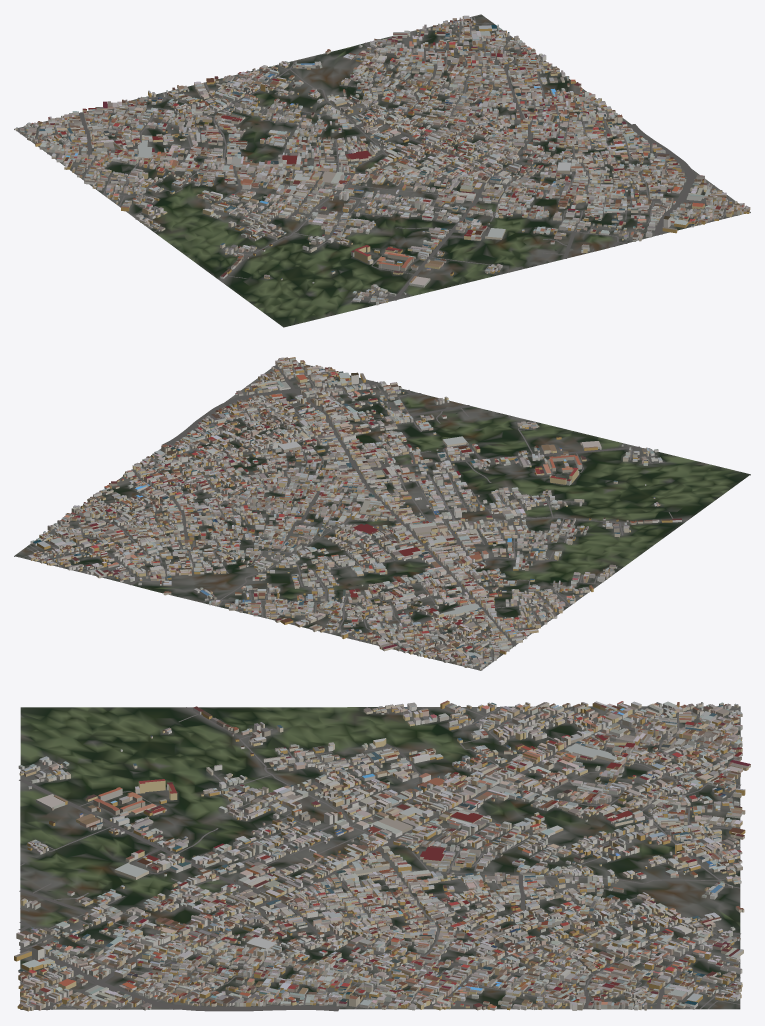
3 views of the same model, one above another, from view 1: azimuth 30°, elevation 25°; view 2: azimuth 150°, elevation 25°; view 3: azimuth 270°, elevation 25° (orthographic). The views are drawn at different scales.
Visible parts, largest first — view 1: buildings, ground, roads; view 2: buildings, ground, roads; view 3: buildings, ground, roads.
Boxes of the visible parts, x1,y1,x2,y2 form: buildings: [14, 15, 750, 305]; ground: [14, 14, 750, 327]; roads: [16, 16, 738, 302]; buildings: [28, 357, 681, 670]; ground: [14, 362, 750, 670]; roads: [21, 363, 688, 669]; buildings: [14, 700, 750, 1011]; ground: [20, 706, 740, 1009]; roads: [18, 706, 740, 1011].
Size of the model in its own units: 1420 by 31.75 by 1434.
